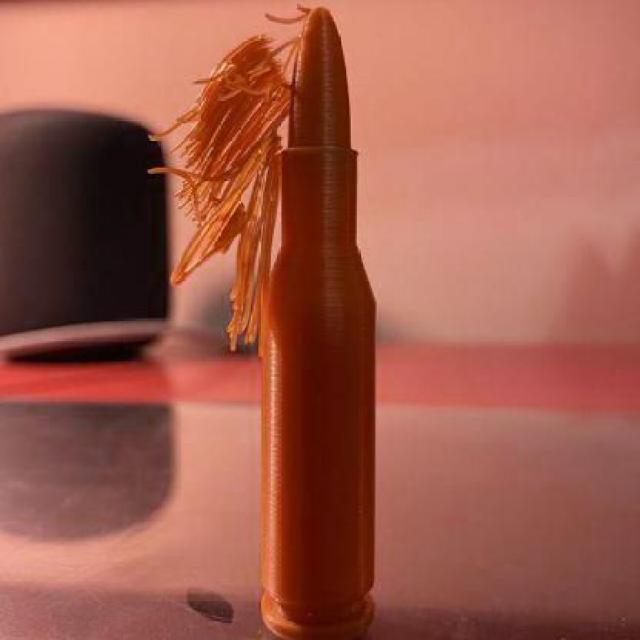spaghetti: (149, 10, 303, 350)
